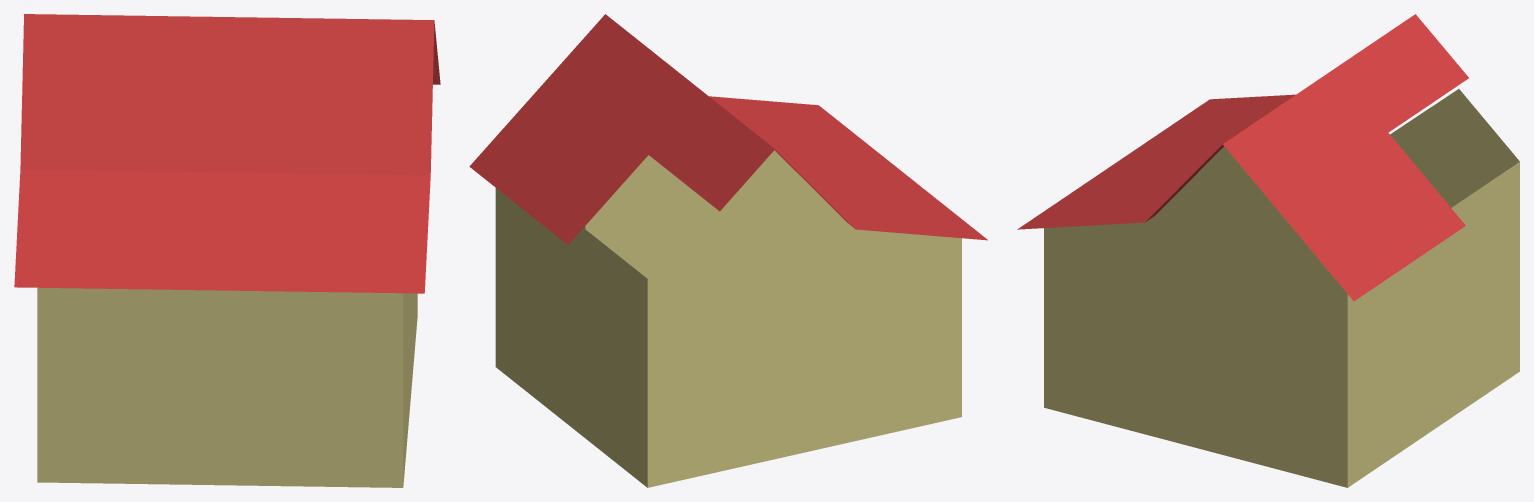
3 renders of one model, left to right at view 1: azimuth 30°, elevation 25°; view 2: azimuth 150°, elevation 25°; view 3: azimuth 270°, elevation 25°, orthographic. The views are drawn at different scales.
Bounding box in the file's own units: 13.16 × 12.75 × 8.97.
